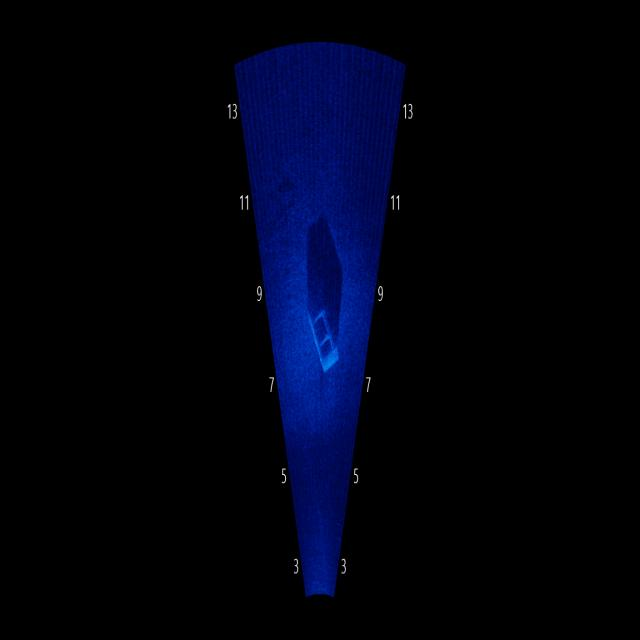square: (301, 291, 344, 390)
